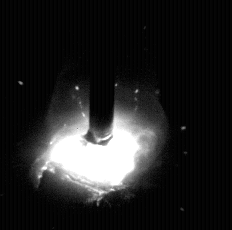arame: (90, 0, 115, 146)
poca: (36, 0, 167, 230)
